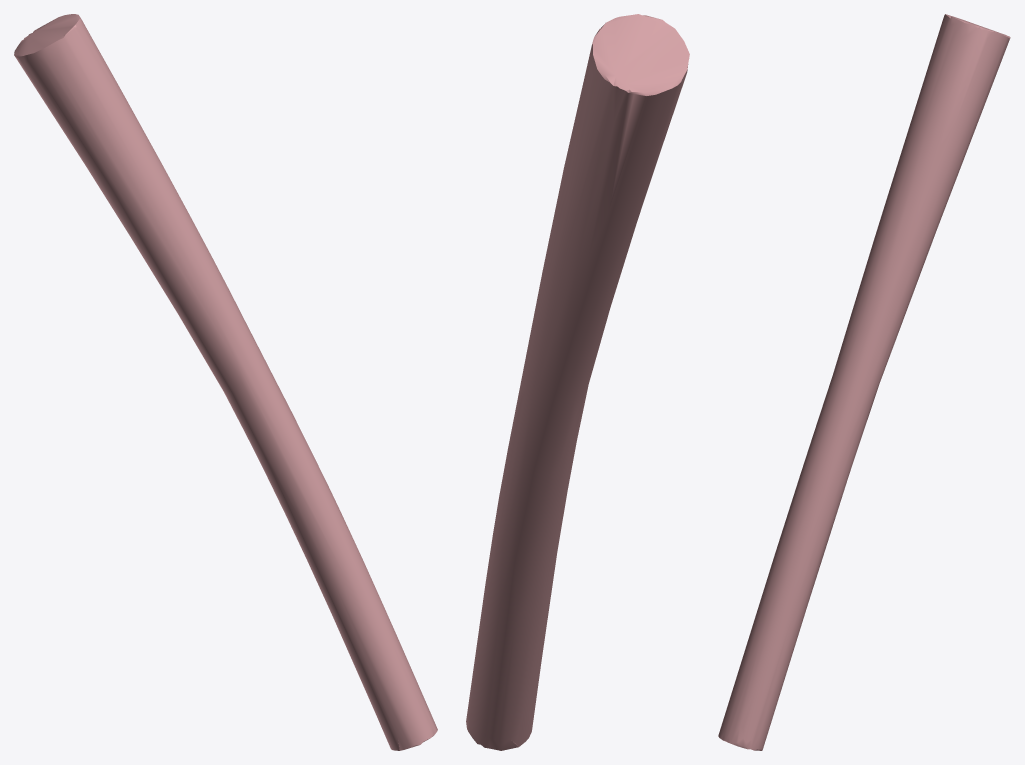
Rendered from fma68218_fj2488.glb.
3 renders of one model, left to right at view 1: azimuth 30°, elevation 25°; view 2: azimuth 150°, elevation 25°; view 3: azimuth 270°, elevation 25°, orthographic. The views are drawn at different scales.
Visible parts, largest first — view 1: FMA68218_FJ2488; view 2: FMA68218_FJ2488; view 3: FMA68218_FJ2488.
Part boxes in pixels (left/top/right/bottom): FMA68218_FJ2488: left=14, top=14, right=437, bottom=750; FMA68218_FJ2488: left=466, top=14, right=689, bottom=750; FMA68218_FJ2488: left=718, top=14, right=1010, bottom=750.
Size of the model in its own units: 0.0131 by 0.03 by 0.0125.
